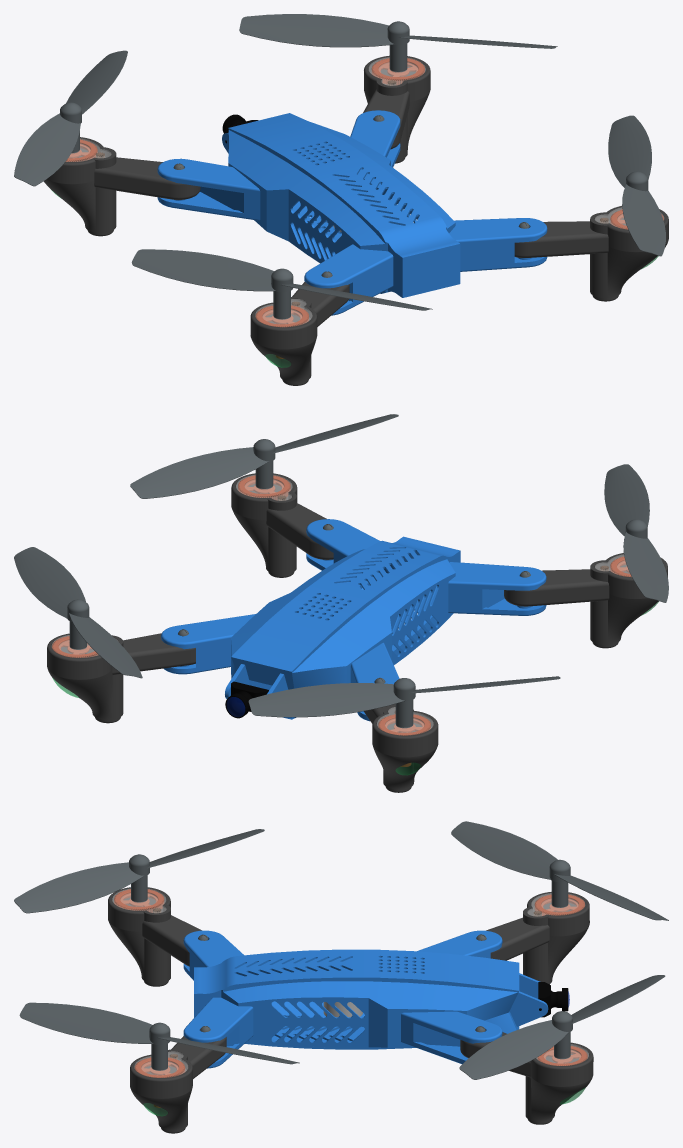
The model's file is Drone.glb.
The picture shows the model from 3 angles, top to bottom: view 1: azimuth 30°, elevation 25°; view 2: azimuth 150°, elevation 25°; view 3: azimuth 270°, elevation 25°; orthographic projection. The views are drawn at different scales.
Parts seen in each view (by area): view 1: Main-frame_MIR, Main-frame, Leg.009, Leg.011, Impellar-Blade.003, Impellar-Blade.001, Impellar-Blade.002, Impellar-Blade, Leg.005, Leg.007, Leg.003, Leg.001 (+3 smaller); view 2: Main-frame_MIR, Leg.005, Impellar-Blade.002, Impellar-Blade, Leg.007, Leg.011, Impellar-Blade.003, Impellar-Blade.001, Main-frame, Leg.009, Leg, Arm-gear.005 (+3 smaller); view 3: Main-frame_MIR, Main-frame, Impellar-Blade, Impellar-Blade.001, Impellar-Blade.002, Impellar-Blade.003, Leg.009, Leg.005, Leg.011, Leg.007, Leg.001, Leg.002 (+7 smaller).
Part boxes in pixels (x1=…): Main-frame_MIR: x1=157, y1=110, x2=547, y2=291; Main-frame: x1=157, y1=139, x2=547, y2=315; Leg.009: x1=44, y1=137, x2=200, y2=236; Leg.011: x1=514, y1=206, x2=668, y2=301; Impellar-Blade.003: x1=239, y1=14, x2=557, y2=72; Impellar-Blade.001: x1=131, y1=249, x2=432, y2=319; Impellar-Blade.002: x1=14, y1=50, x2=127, y2=186; Impellar-Blade: x1=608, y1=115, x2=665, y2=256; Leg.005: x1=250, y1=282, x2=349, y2=385; Leg.007: x1=363, y1=55, x2=430, y2=163; Leg.003: x1=369, y1=57, x2=425, y2=85; Leg.001: x1=255, y1=299, x2=312, y2=326; Main-frame_MIR: x1=161, y1=519, x2=546, y2=694; Leg.005: x1=504, y1=553, x2=667, y2=648; Impellar-Blade.002: x1=248, y1=676, x2=560, y2=728; Impellar-Blade: x1=130, y1=414, x2=398, y2=498; Leg.007: x1=47, y1=633, x2=195, y2=723; Leg.011: x1=231, y1=473, x2=333, y2=577; Impellar-Blade.003: x1=14, y1=547, x2=142, y2=678; Impellar-Blade.001: x1=604, y1=464, x2=668, y2=602; Main-frame: x1=163, y1=553, x2=546, y2=721; Leg.009: x1=364, y1=704, x2=438, y2=792; Leg: x1=236, y1=475, x2=292, y2=500; Arm-gear.005: x1=225, y1=681, x2=268, y2=718; Main-frame_MIR: x1=183, y1=930, x2=548, y2=1043; Main-frame: x1=183, y1=963, x2=547, y2=1068; Impellar-Blade: x1=19, y1=1002, x2=299, y2=1070; Impellar-Blade.001: x1=14, y1=829, x2=264, y2=913; Impellar-Blade.002: x1=451, y1=821, x2=668, y2=920; Impellar-Blade.003: x1=459, y1=975, x2=665, y2=1079; Leg.009: x1=486, y1=892, x2=589, y2=984; Leg.005: x1=108, y1=887, x2=201, y2=986; Leg.011: x1=130, y1=1036, x2=226, y2=1133; Leg.007: x1=460, y1=1032, x2=593, y2=1124; Leg.001: x1=112, y1=888, x2=166, y2=912; Leg.002: x1=527, y1=893, x2=584, y2=916.
Bounding box in the file's own units: 0.2837 × 0.0612 × 0.312.
